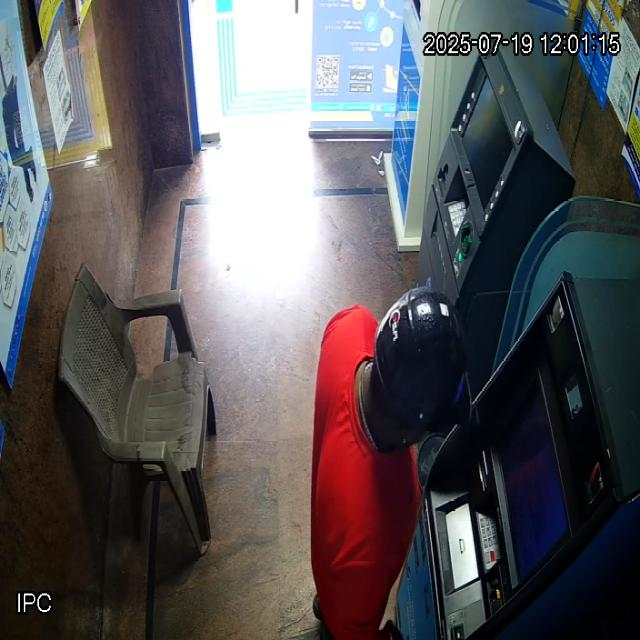helmet: (361, 285, 472, 452)
